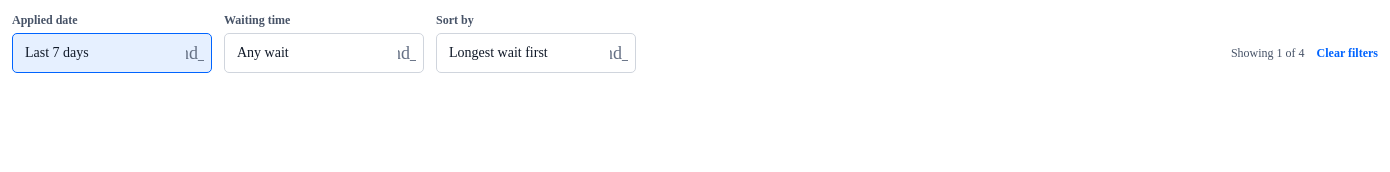
Test: MentorFilterBar › Clear filters keeps keyboard focus in the bar, on its first field
This screenshot has width=1390, height=172.
Click the button "Clear filters". click: (1347, 53)
box: [1317,45,1378,61]
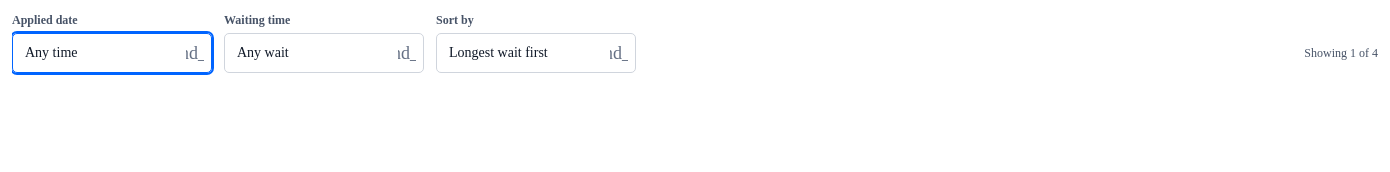
Check: the button "Clear filters" is gone
